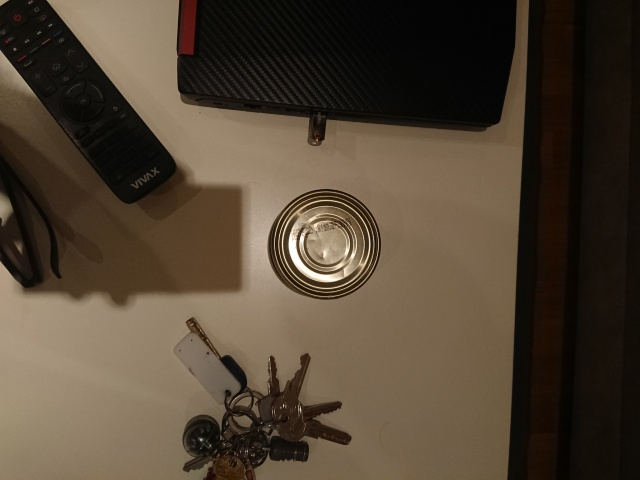Giana Tuna Salad Mexico 185g: (265, 184, 384, 304)
